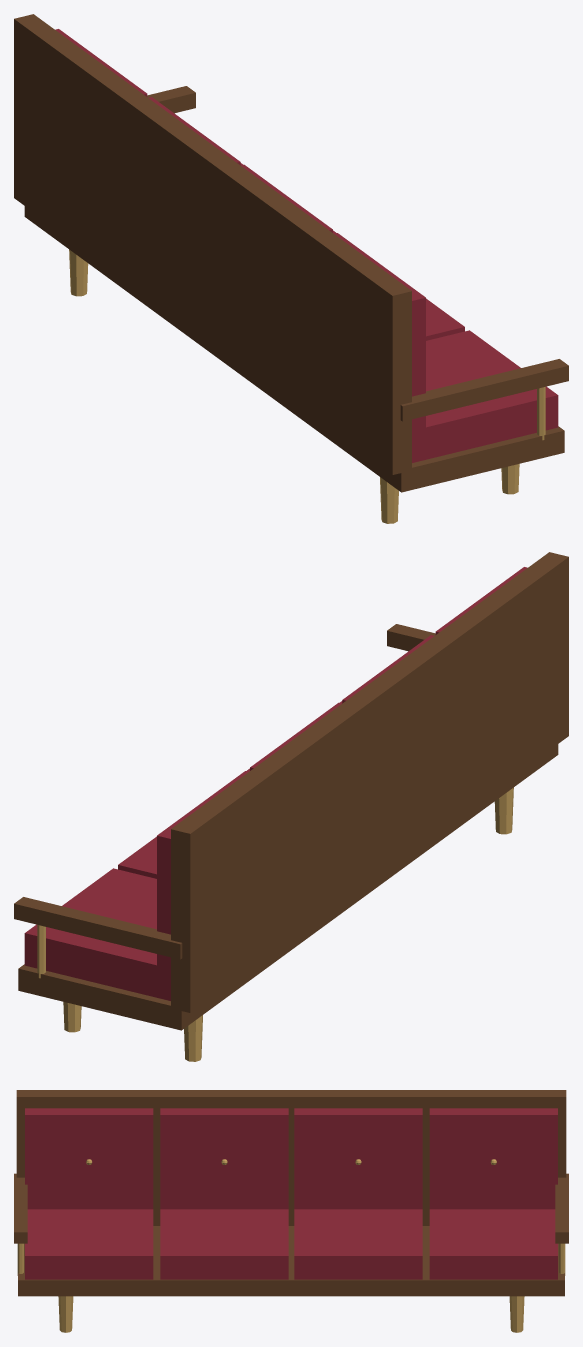
Rendered from lounge_bench.glb.
3 renders of one model, top to bottom at view 1: azimuth 30°, elevation 25°; view 2: azimuth 150°, elevation 25°; view 3: azimuth 270°, elevation 25°, orthographic. The views are drawn at different scales.
Visible parts, largest first — view 1: Walnut, Palette; view 2: Walnut, Palette; view 3: Palette, Walnut.
Boxes of the visible parts, <box> form: Walnut: <box>14,14,568,492</box>; Palette: <box>55,29,558,523</box>; Walnut: <box>14,552,568,1030</box>; Palette: <box>24,567,527,1061</box>; Palette: <box>17,1108,565,1332</box>; Walnut: <box>14,1090,568,1296</box>.
Size of the model in its own units: 1.07 by 1.5 by 4.06.
